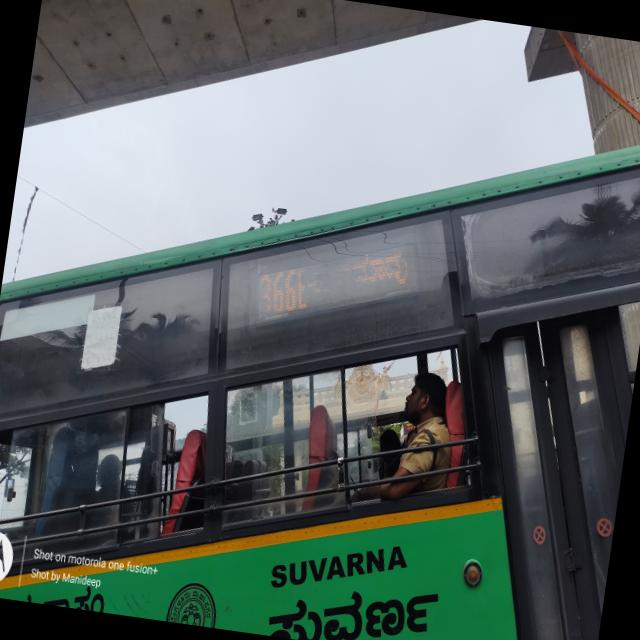bus: (0, 48, 640, 618)
display: (241, 225, 416, 344)
dnumber: (249, 262, 311, 326)
